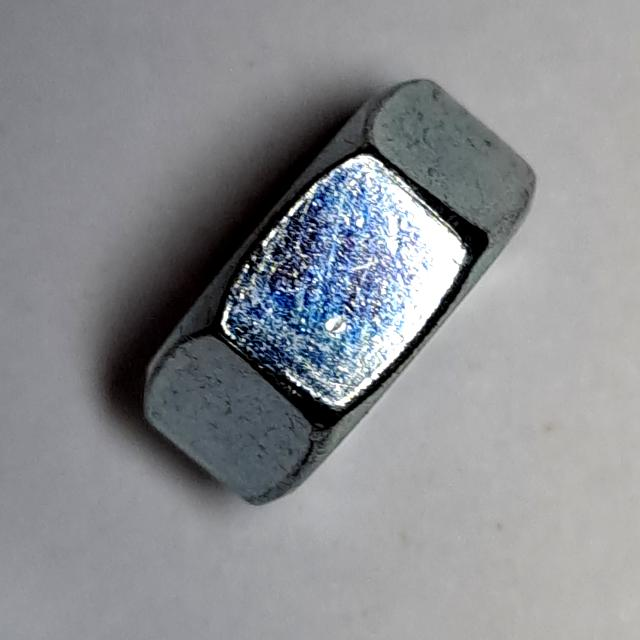Side_Excellent: (126, 66, 553, 516)
